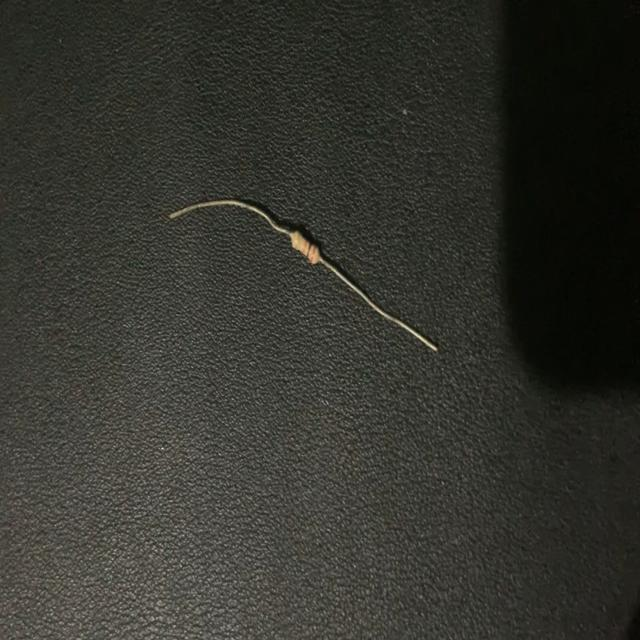resistor: (172, 202, 438, 348)
